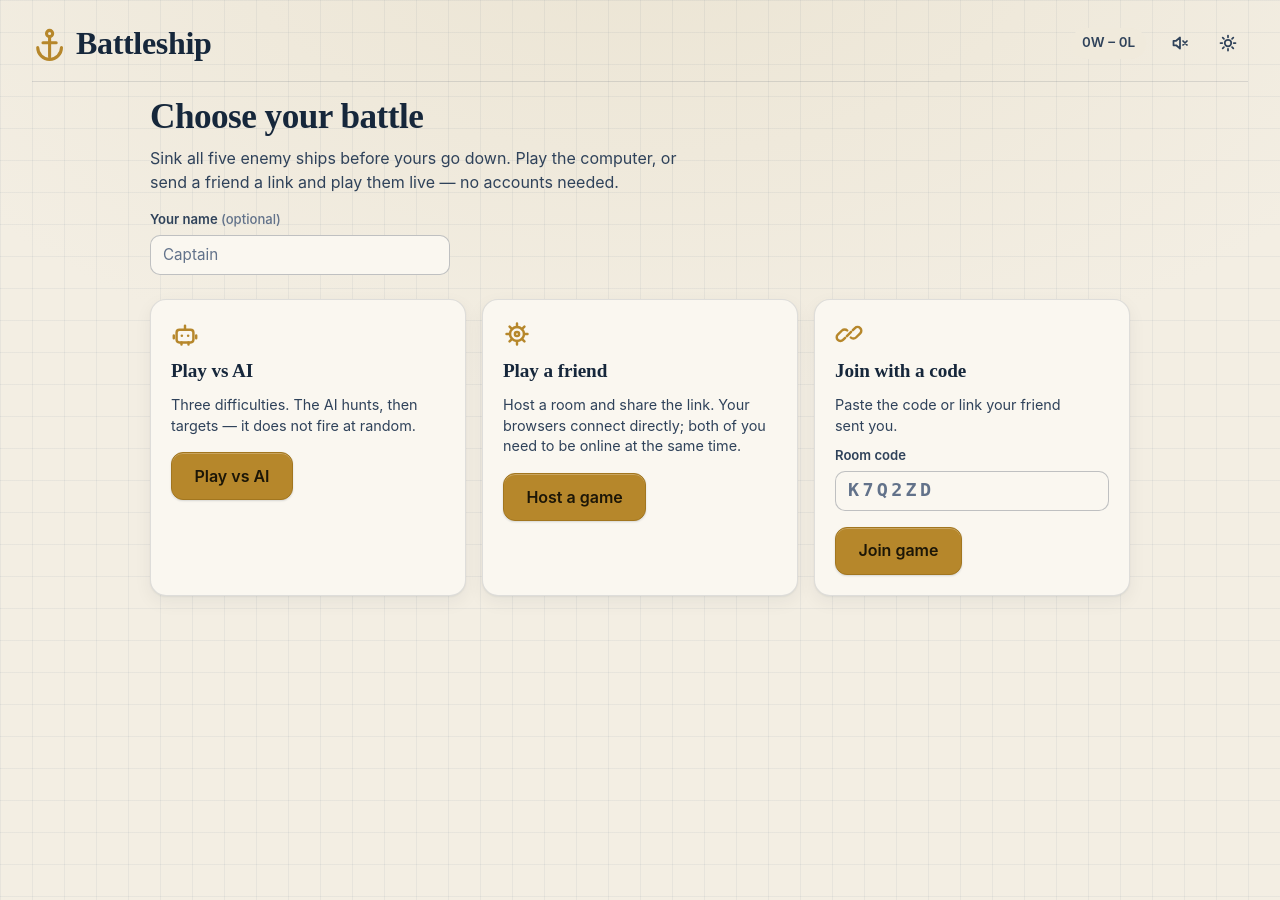
Test: App › persists the sound preference
Click the button named "enable sound".
click(1180, 43)  # box [1160,23,1200,63]
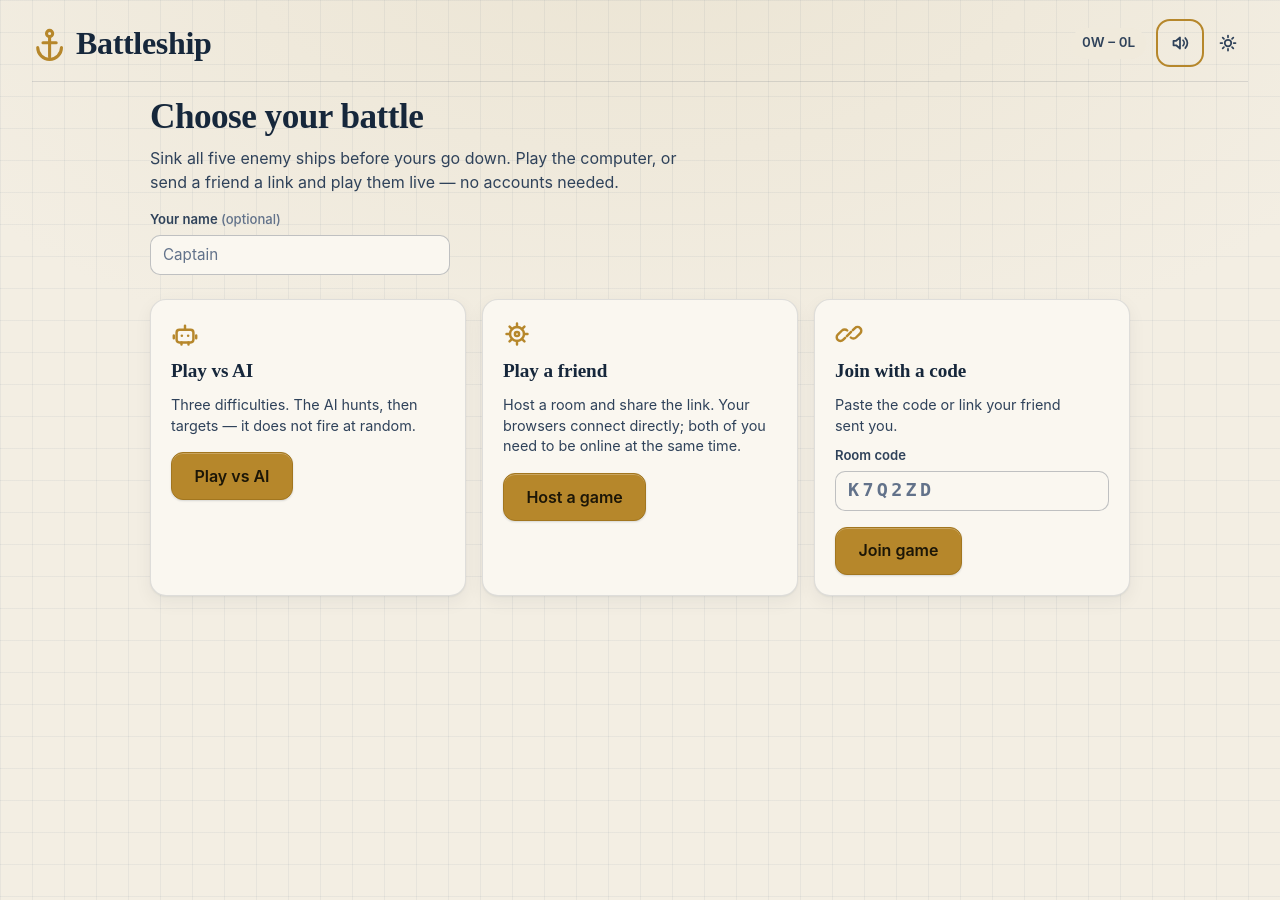
expect the button named "mute sound" is shown: met, box [1160,23,1200,63]
